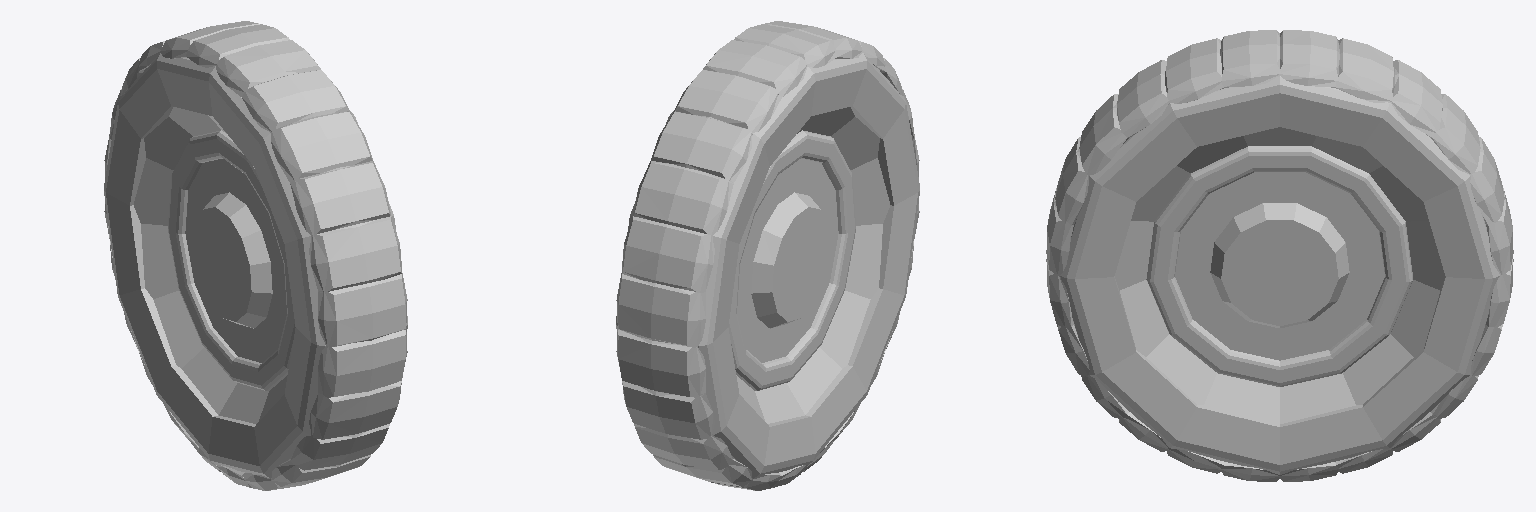
The model's file is llanta2.obj.
3 renders of one model, left to right at view 1: azimuth 30°, elevation 25°; view 2: azimuth 150°, elevation 25°; view 3: azimuth 270°, elevation 25°, orthographic.
Parts seen in each view (by area): view 1: CartoonTrack_TireBackLeft; view 2: CartoonTrack_TireBackLeft; view 3: CartoonTrack_TireBackLeft.
Part boxes in pixels (x1,y1,x2,y2): CartoonTrack_TireBackLeft: (104, 21, 407, 490); CartoonTrack_TireBackLeft: (616, 21, 919, 490); CartoonTrack_TireBackLeft: (1046, 30, 1513, 481).
Bounding box in the file's own units: 0.2487 × 1.06 × 1.06.